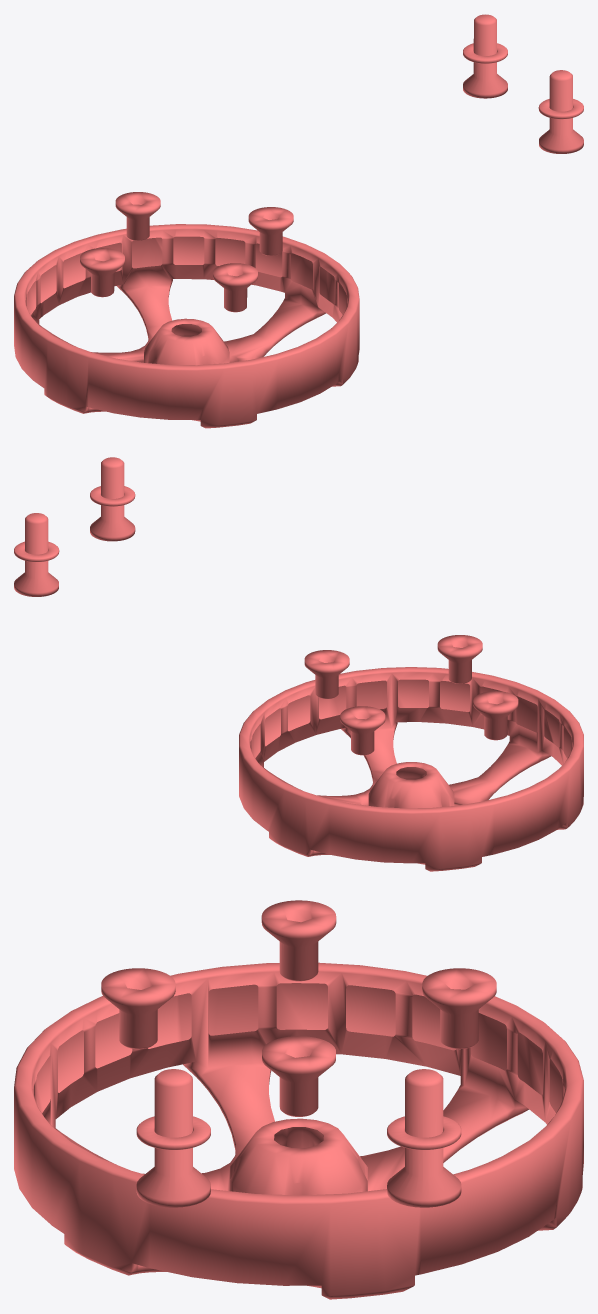
The model's file is solo12_hip_fe_fl_14.obj.
3 views of the same model, one above another, from view 1: azimuth 30°, elevation 25°; view 2: azimuth 150°, elevation 25°; view 3: azimuth 270°, elevation 25° (orthographic). The views are drawn at different scales.
Bounding box in the file's own units: 0.075 × 0.0366 × 0.0444.
